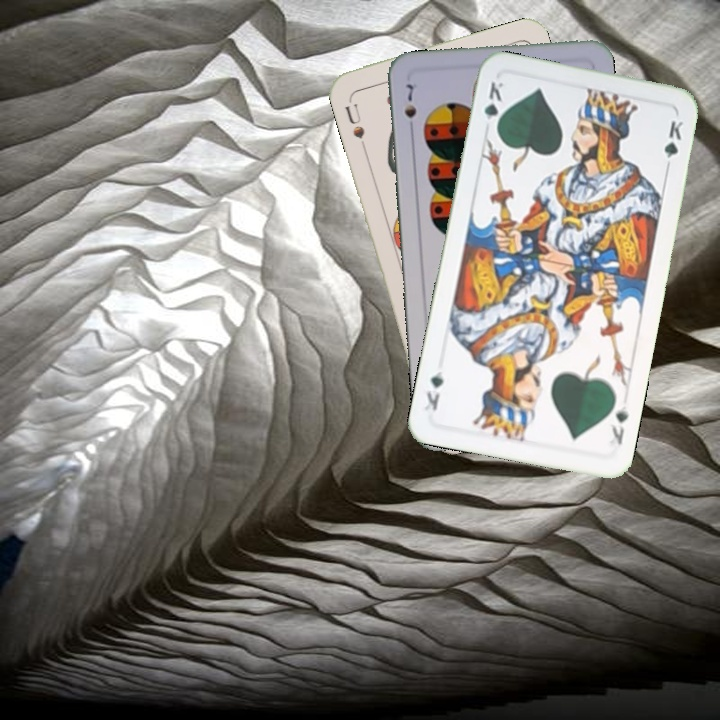GK: (480, 78, 506, 135), (605, 401, 631, 450)
S7: (400, 79, 419, 136)
SU: (341, 94, 368, 152)
